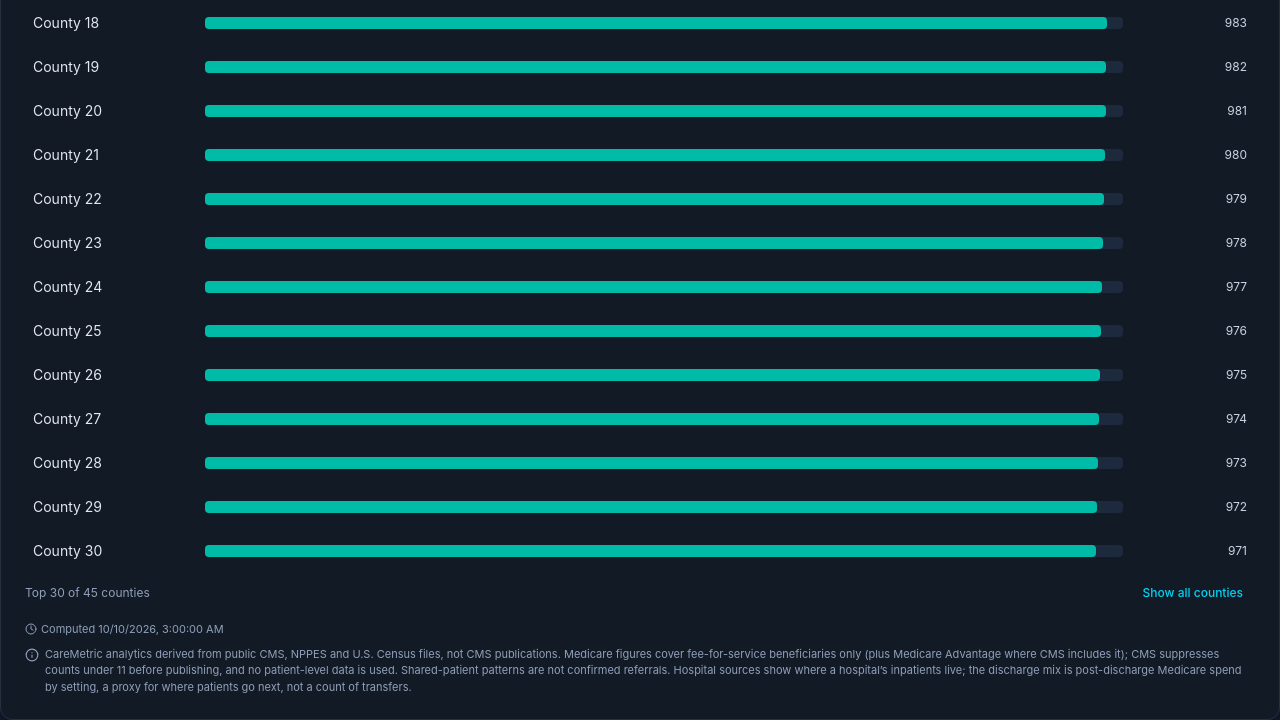
Scenario: CountyMetricLayer › lists the top 30 counties and says so, with a way to see every county
(page scrolled)
Check: the text "Top 30 of 45 counties" is shown, box [25, 585, 150, 601]
Step 1. Click the button "Show all counties" → (1193, 593), box [1130, 577, 1255, 609]
(page scrolled)
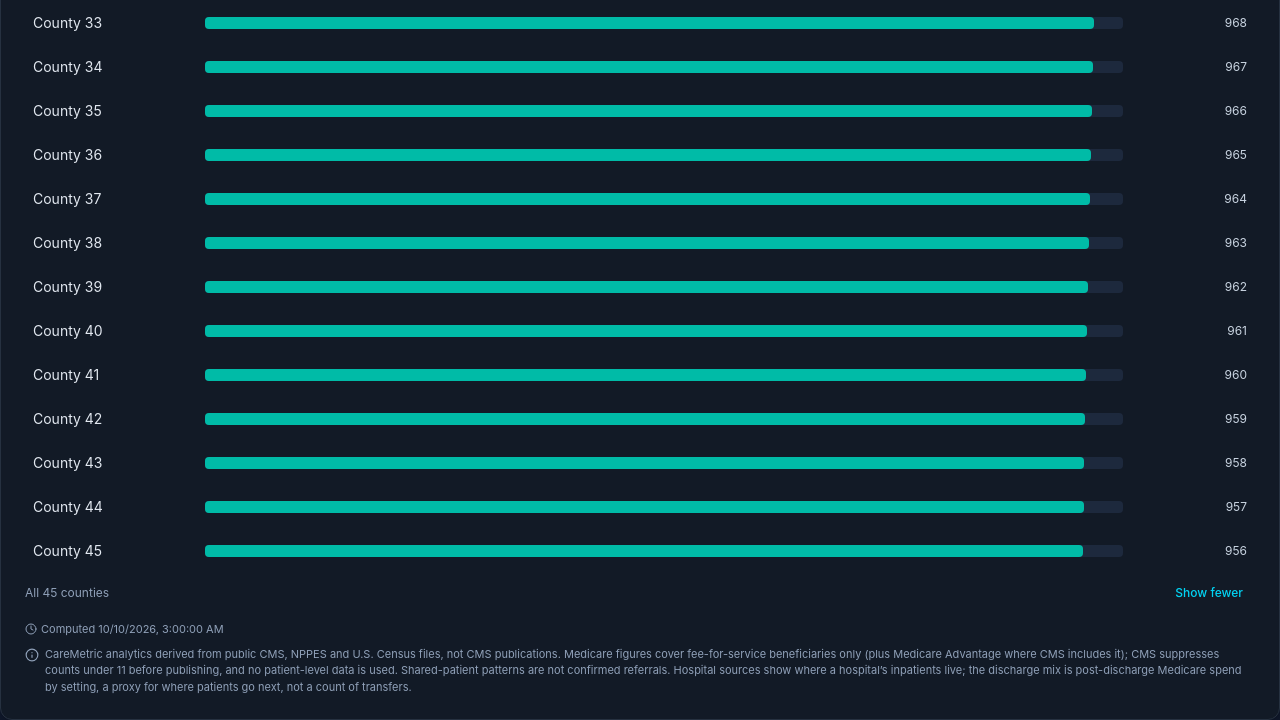
Check: the text "All 45 counties" is shown, box [25, 585, 109, 601]
